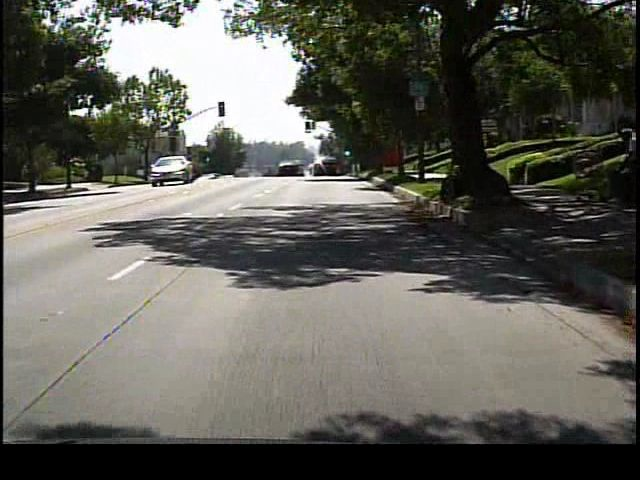person: (608, 125, 637, 218)
